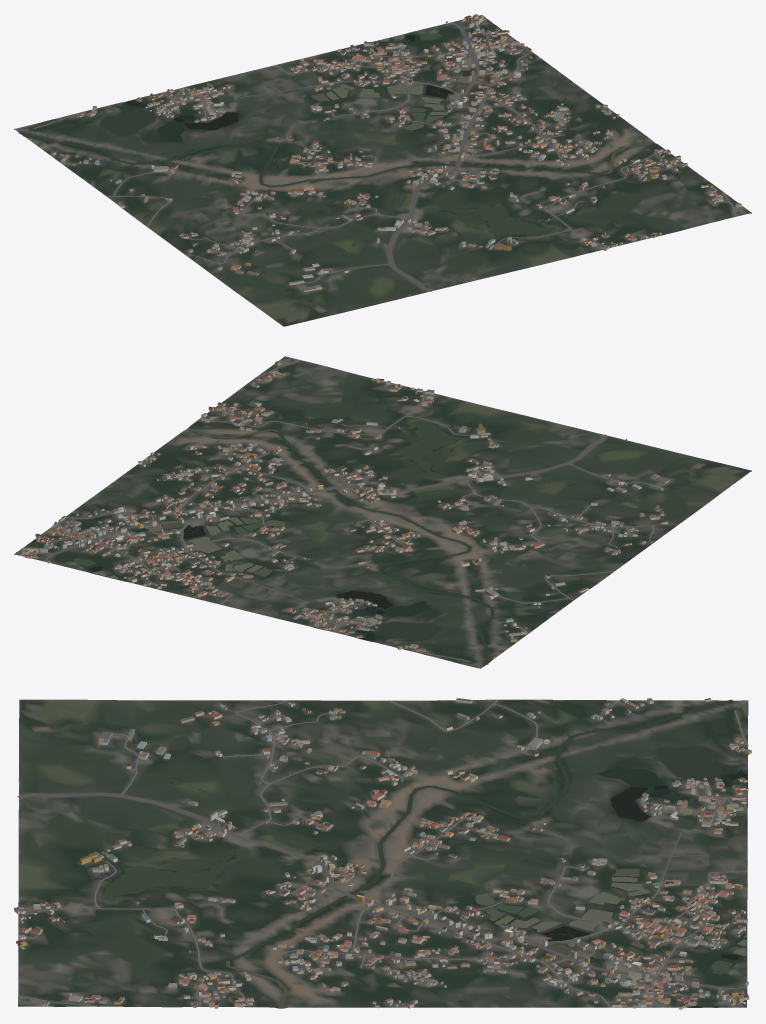
The picture shows the model from 3 angles, top to bottom: view 1: azimuth 30°, elevation 25°; view 2: azimuth 150°, elevation 25°; view 3: azimuth 270°, elevation 25°; orthographic projection. The views are drawn at different scales.
Visible parts, largest first — view 1: ground, buildings, water, roads; view 2: ground, buildings, water, roads; view 3: ground, buildings, water, roads.
Boxes of the visible parts, x1,y1,x2,y2 form: ground: (14,15,751,326); buildings: (27,14,741,296); water: (19,24,655,256); roads: (34,16,742,324); ground: (14,356,751,668); buildings: (20,361,669,658); water: (29,421,575,667); roads: (16,360,749,661); ground: (18,699,748,1008); buildings: (14,698,751,1009); water: (105,699,747,1008); roads: (17,699,748,1007).
Size of the model in its own units: 1410 by 18.22 by 1419.
